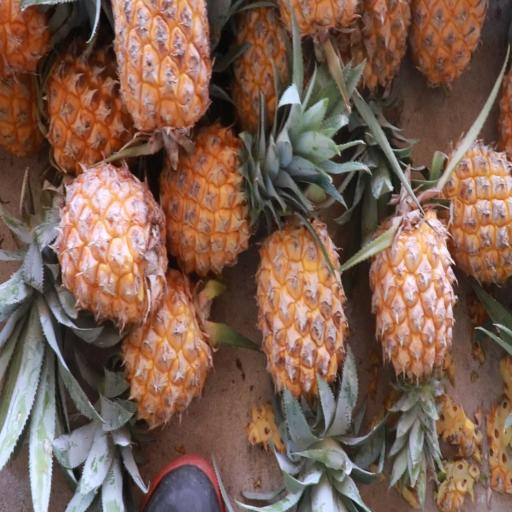Pineapple - v8 v1: (255, 211, 352, 417), (50, 162, 171, 322), (369, 188, 460, 398), (155, 110, 260, 278), (119, 275, 219, 433), (110, 0, 215, 149), (43, 33, 147, 175), (437, 129, 512, 289)
